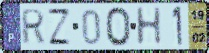0: (80, 8, 103, 46)
1: (170, 5, 184, 48)
H: (134, 6, 164, 48)
O: (104, 5, 133, 48)
R: (20, 8, 46, 46)
Z: (46, 7, 73, 47)
